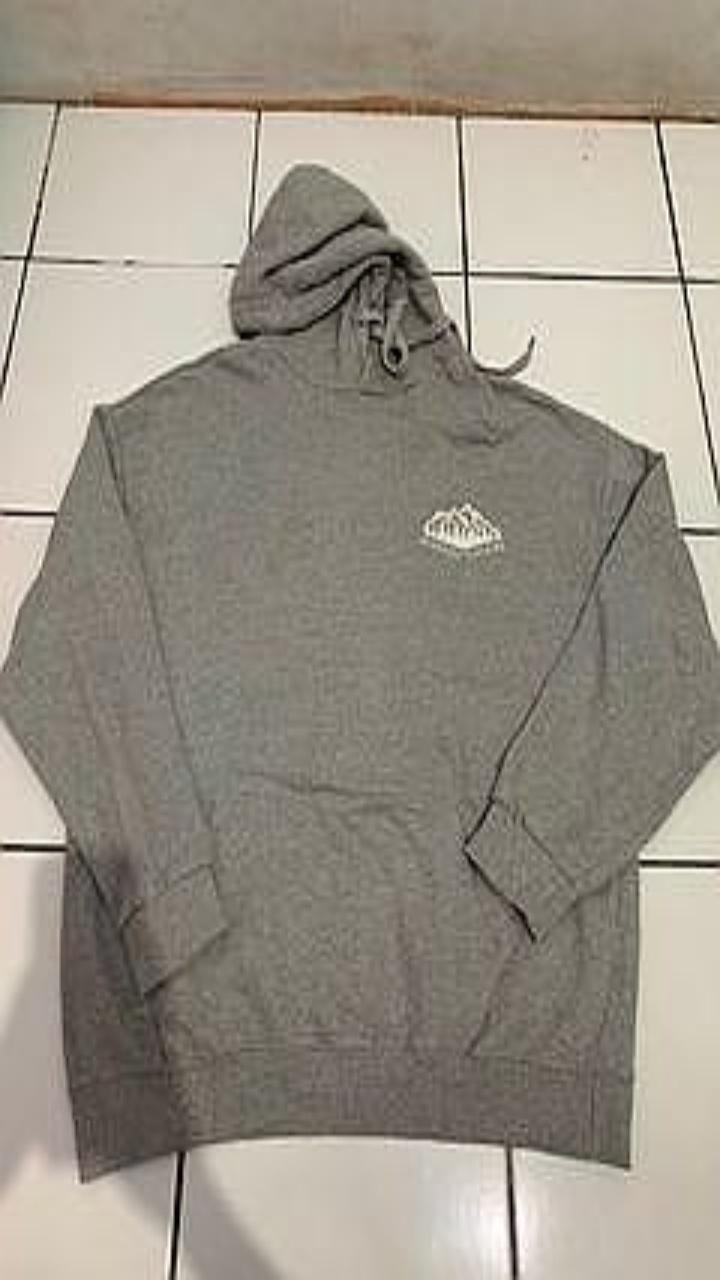Hoodie: (0, 163, 719, 1180)
